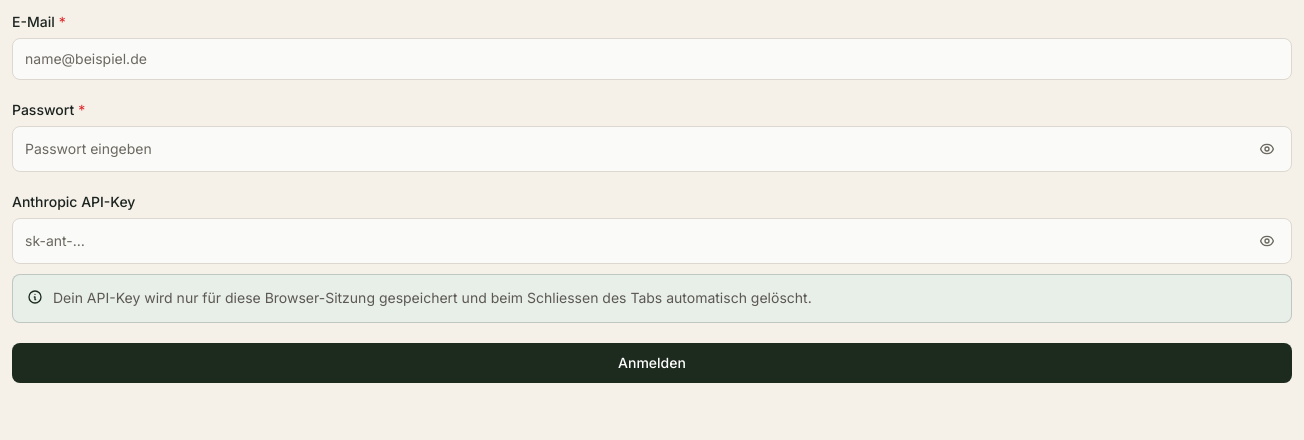
Scenario: LoginForm — Fehlerbehandlung › löscht vorherige Fehlermeldung beim erneuten Submit
Type "test@example.com" into the field labelled "E-Mail" at (652, 59), box [12,38,1292,80]
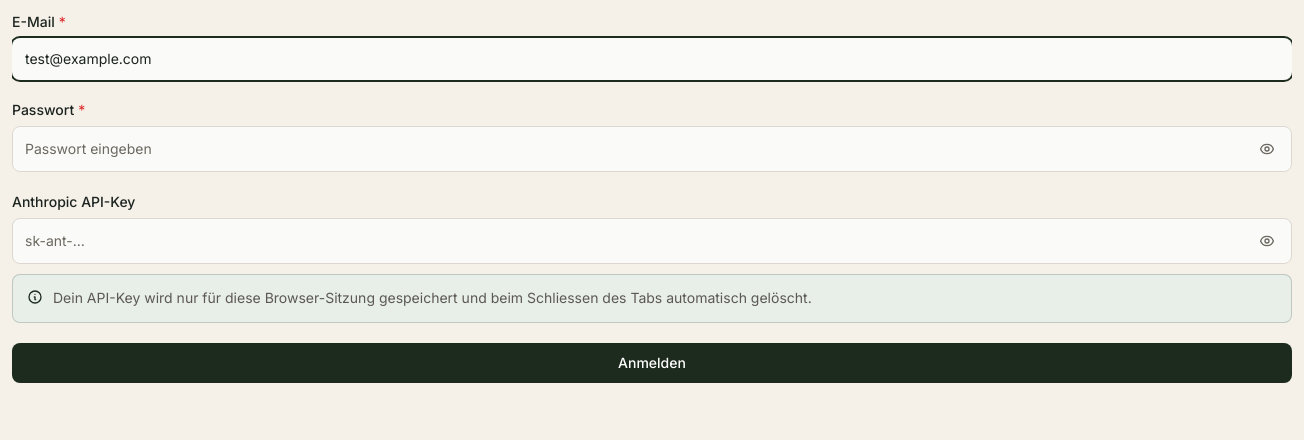
Type "test" into the password field labelled "Passwort" at (630, 149), box [13,129,1247,169]
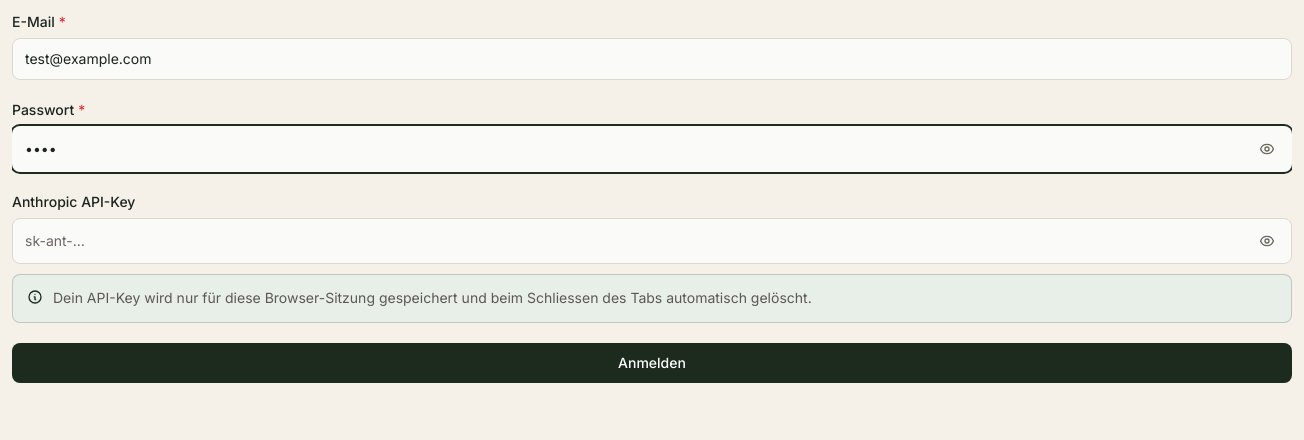
Click the button "Anmelden" at (652, 363), box [12,343,1292,383]
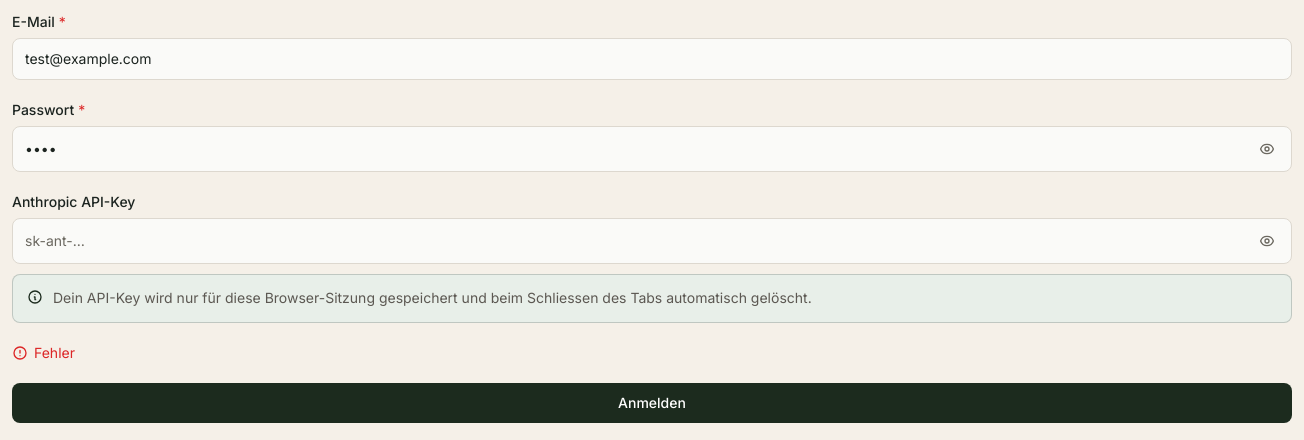
expect the message "Fehler" is shown: met, box [12,344,75,361]
Click the button "Anmelden" at (652, 403), box [12,383,1292,423]
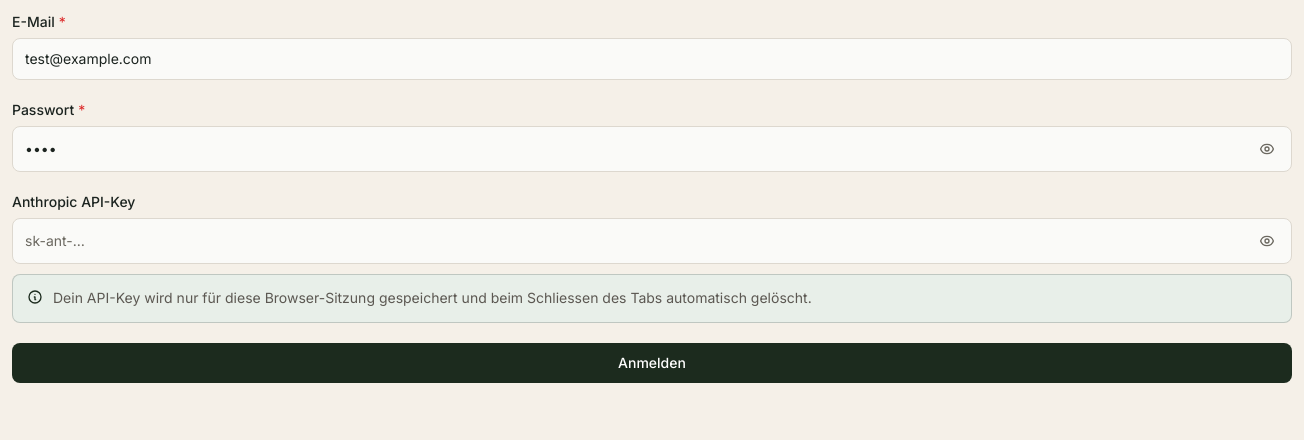
expect the message "Fehler" is gone: met
